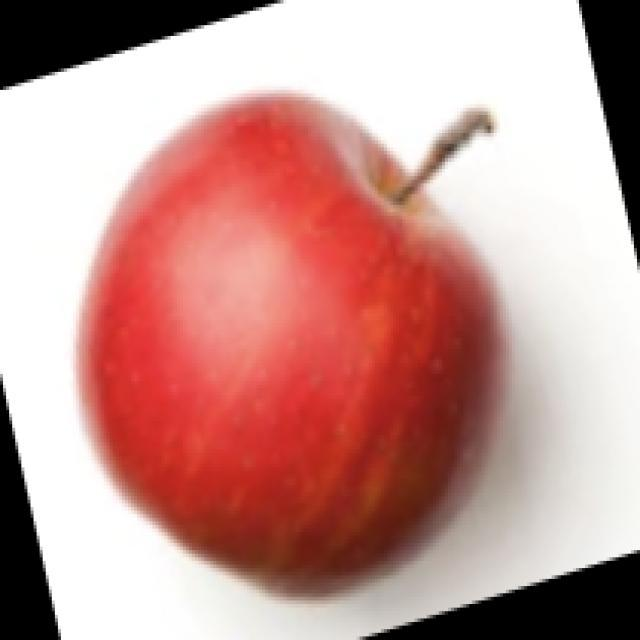Fresh Apple: (89, 97, 484, 583)
